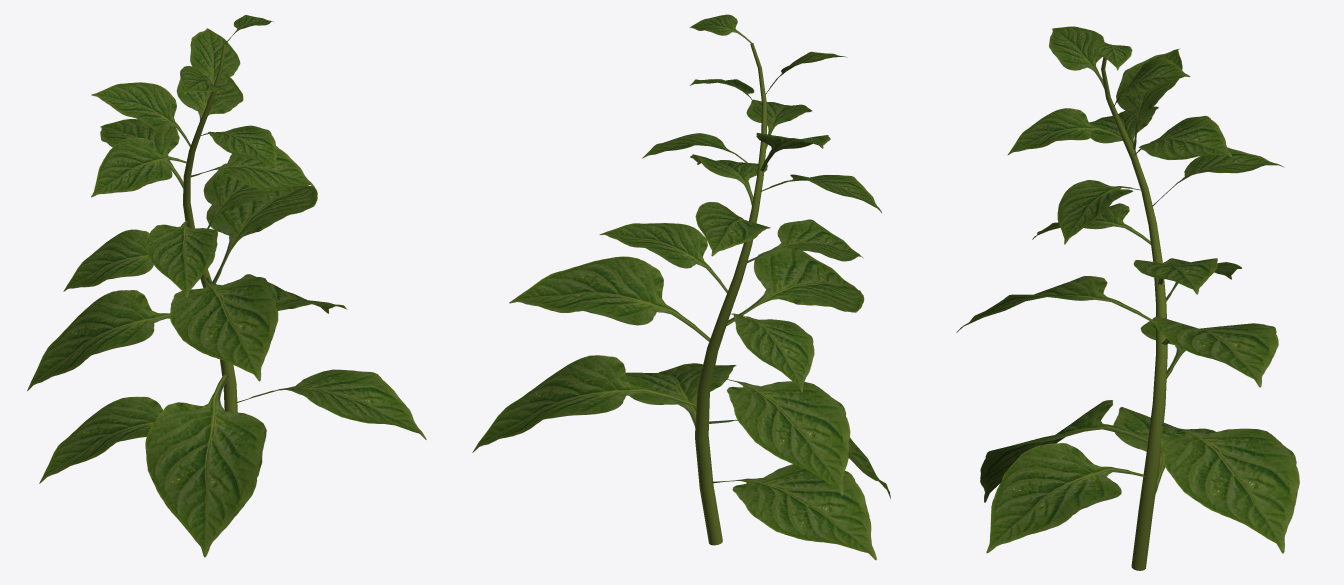
File: bellpepper_step5-transformed.glb
3 renders of one model, left to right at view 1: azimuth 30°, elevation 25°; view 2: azimuth 150°, elevation 25°; view 3: azimuth 270°, elevation 25°, orthographic. The views are drawn at different scales.
Parts seen in each view (by area): view 1: result4; view 2: result4; view 3: result4.
Boxes of the visible parts, left/top/right/bottom form: result4: left=27, top=15, right=426, bottom=557; result4: left=472, top=14, right=890, bottom=560; result4: left=956, top=26, right=1299, bottom=570.
Size of the model in its own units: 9.22 by 11.61 by 7.6.
2 materials, 2 textured.
